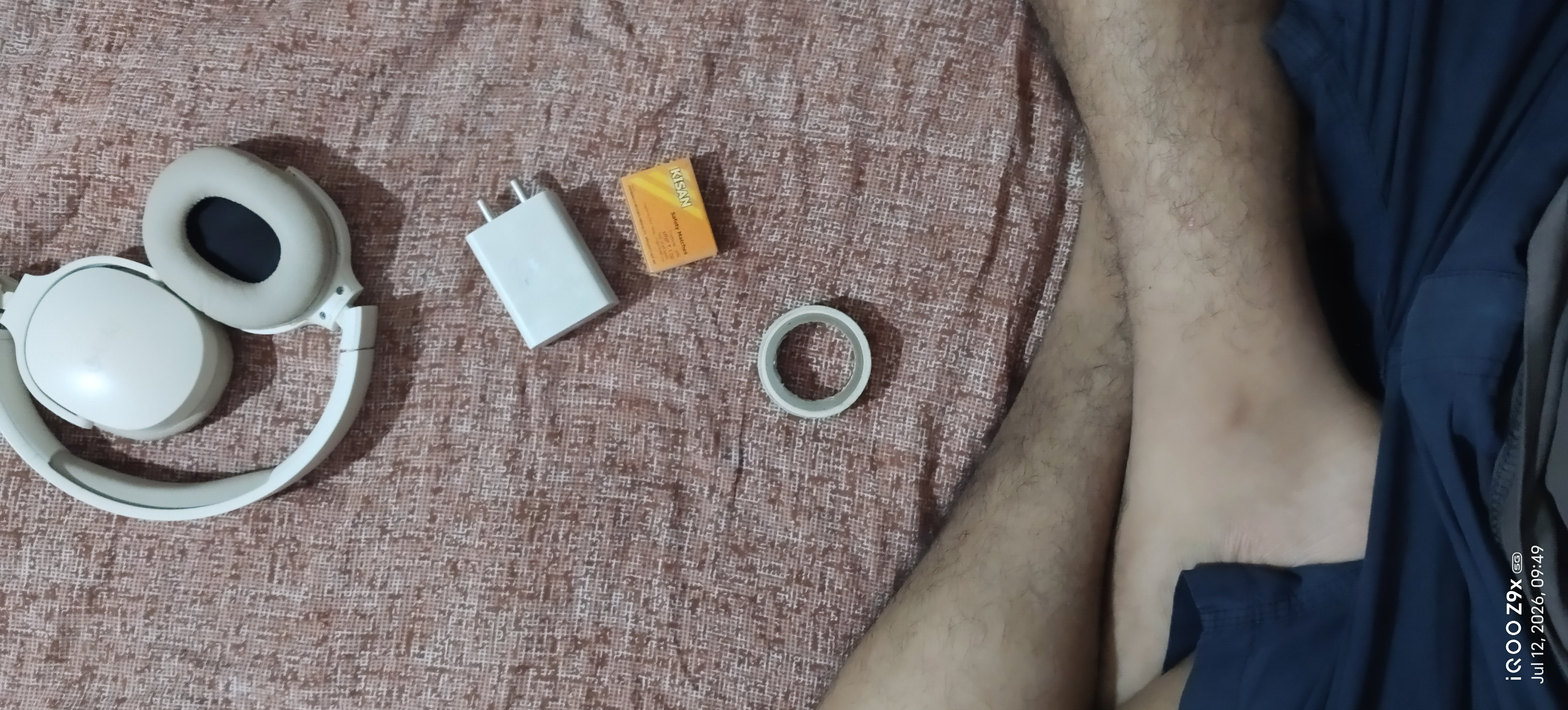charger: (448, 170, 625, 360)
matchbox: (611, 144, 756, 294)
tape_roll: (746, 303, 886, 426)
